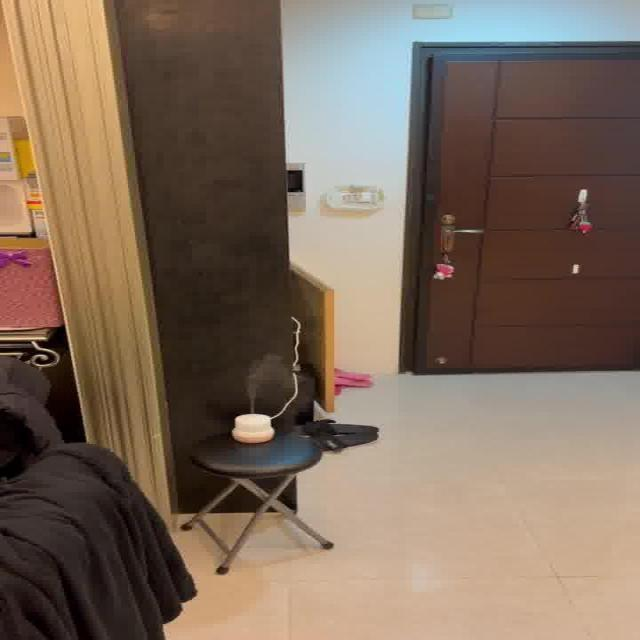fire: (242, 351, 286, 402)
